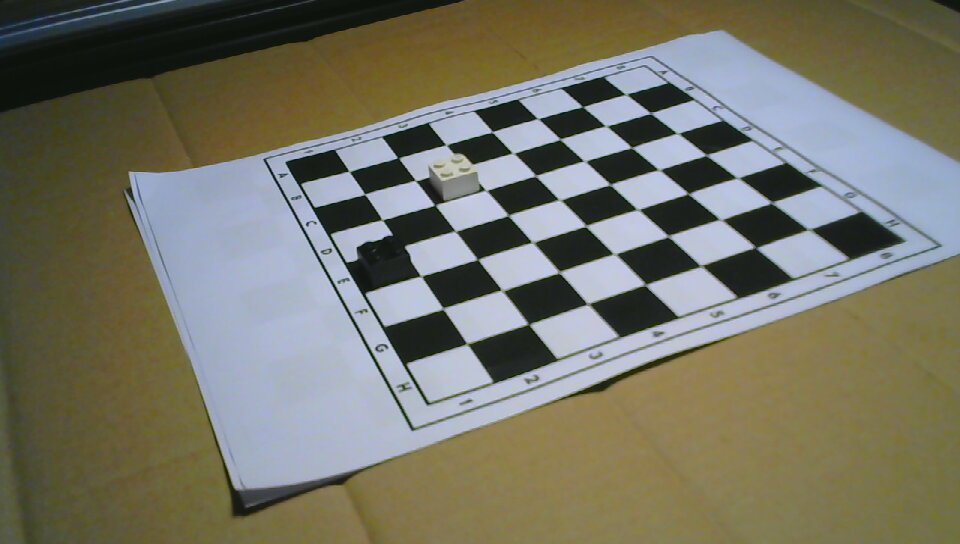bp: (358, 235, 412, 286)
wp: (429, 154, 480, 201)
